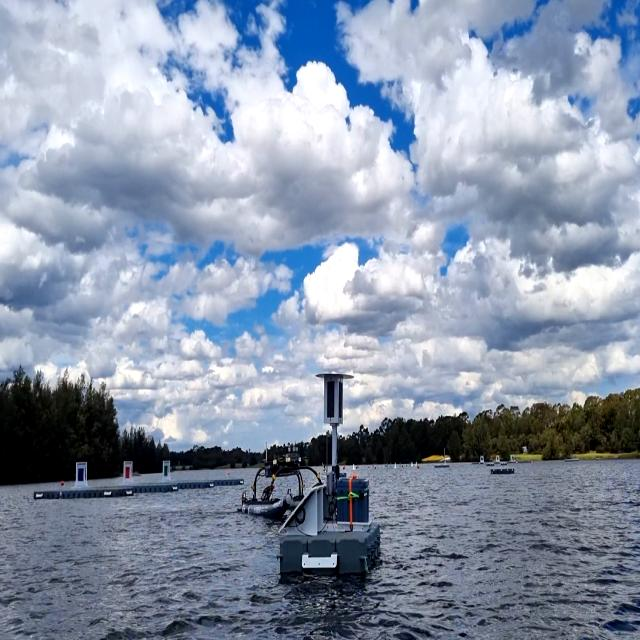led: (326, 377, 337, 422)
